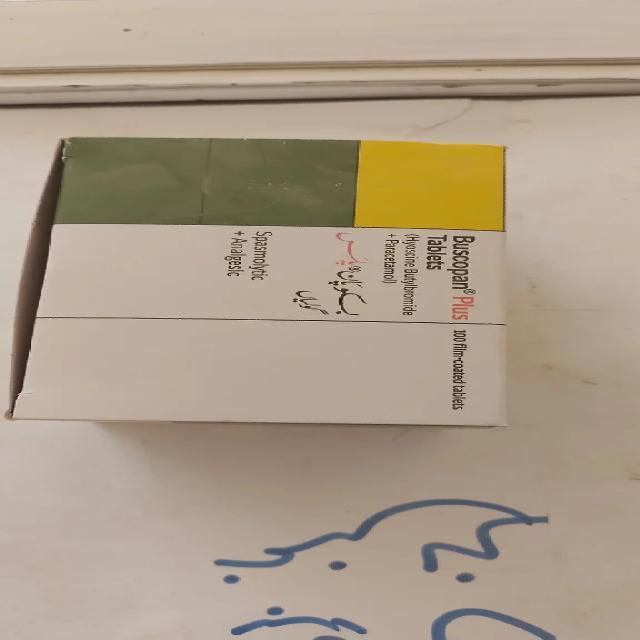drug-name: (448, 235, 478, 322)
